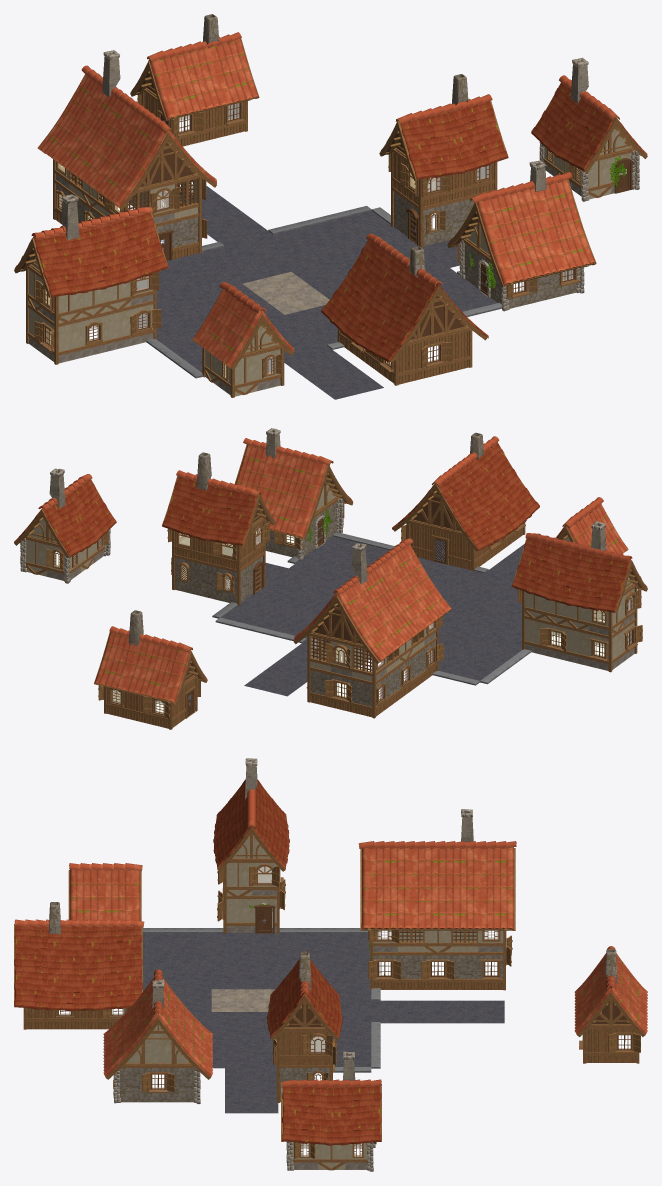
Rendered from village.glb.
3 views of the same model, one above another, from view 1: azimuth 30°, elevation 25°; view 2: azimuth 150°, elevation 25°; view 3: azimuth 270°, elevation 25° (orthographic). The views are drawn at different scales.
Visible parts, largest first — view 1: village; view 2: village; view 3: village.
Boxes of the visible parts, x1,y1,x2,y2 form: village: (14,14,647,399); village: (14,428,647,729); village: (14,758,647,1171).
Size of the model in its own units: 5168 by 1339 by 4759.
11 materials, 10 textured.
